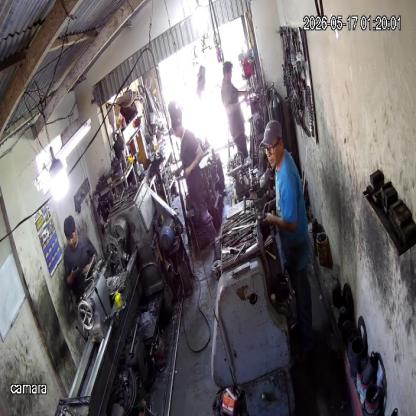lentes: (263, 138, 280, 153)
